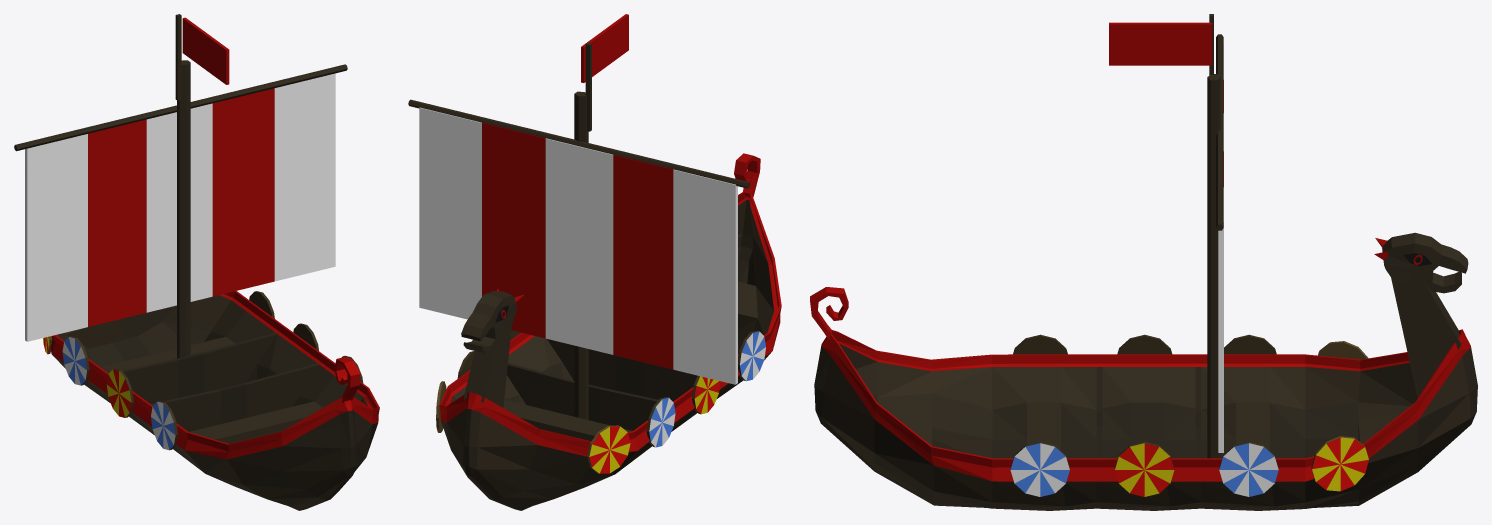
Rendered from Ship_03.fbx.
3 views of the same model, side by side, from view 1: azimuth 30°, elevation 25°; view 2: azimuth 150°, elevation 25°; view 3: azimuth 270°, elevation 25° (orthographic). The views are drawn at different scales.
Visible parts, largest first — view 1: Sail, Boat_Outer_03, Boat_Inner_03, Flag; view 2: Sail, Boat_Outer_03, Boat_Inner_03, Flag; view 3: Boat_Outer_03, Boat_Inner_03, Flag, Sail.
Boxes of the visible parts, x1,y1,x2,y2 form: Sail: (25,73,335,341); Boat_Outer_03: (14,14,379,510); Boat_Inner_03: (56,294,373,443); Flag: (182,17,229,84); Sail: (419,107,737,384); Boat_Outer_03: (408,43,781,510); Boat_Inner_03: (445,198,778,441); Flag: (581,14,628,82); Boat_Outer_03: (810,14,1477,510); Boat_Inner_03: (837,341,1417,458); Flag: (1109,22,1212,65); Sail: (1218,45,1223,452).
Size of the model in its own units: 1640 by 1961 by 2431.
